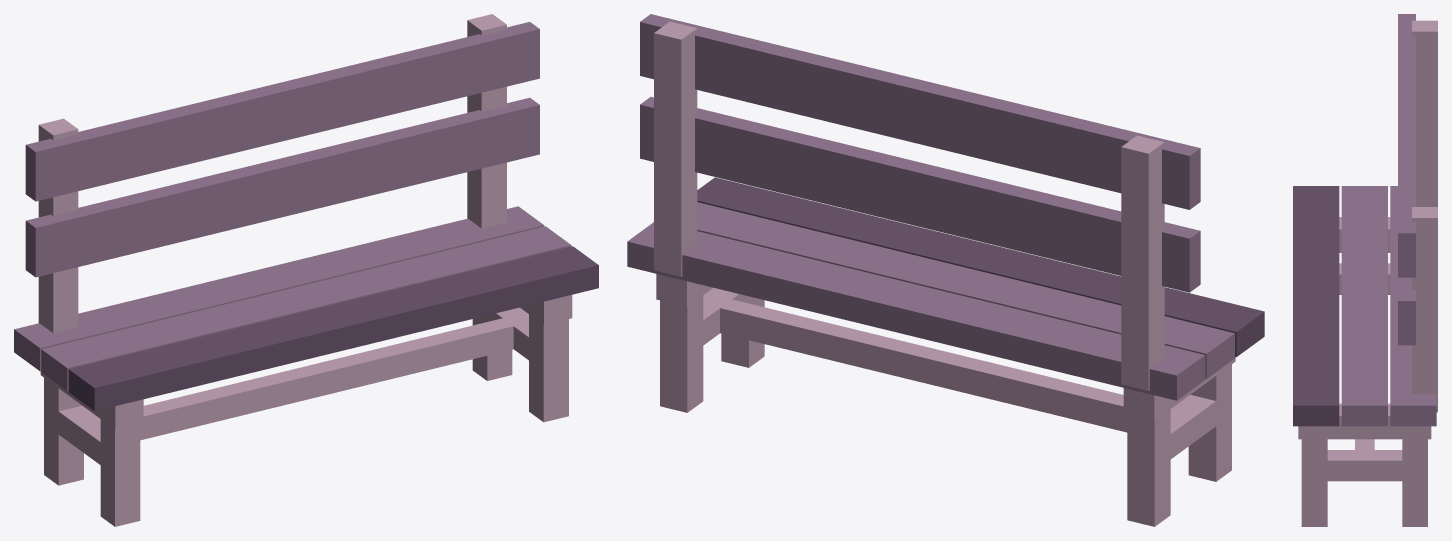
Rendered from TW_BENCH_BACKREST_A_LOD0.glb.
The picture shows the model from 3 angles, left to right: view 1: azimuth 30°, elevation 25°; view 2: azimuth 150°, elevation 25°; view 3: azimuth 270°, elevation 25°; orthographic projection. The views are drawn at different scales.
Parts seen in each view (by area): view 1: TW_BENCH_BACKREST_A_LOD0; view 2: TW_BENCH_BACKREST_A_LOD0; view 3: TW_BENCH_BACKREST_A_LOD0.
Part boxes in pixels (left/top/right/bottom): TW_BENCH_BACKREST_A_LOD0: left=14, top=14, right=598, bottom=526; TW_BENCH_BACKREST_A_LOD0: left=627, top=14, right=1264, bottom=526; TW_BENCH_BACKREST_A_LOD0: left=1293, top=14, right=1437, bottom=526.
Bounding box in the file's own units: 1.6 × 1.05 × 0.446.
1 material, 1 textured.
